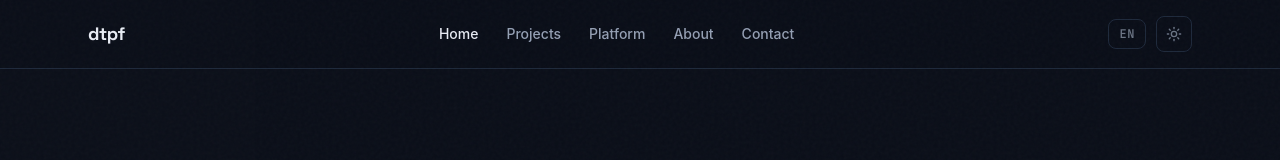
it: Header › language toggle switches label
The width and height of the screenshot is (1280, 160).
Click the button "EN" at (1127, 34), box [1108, 19, 1146, 49]
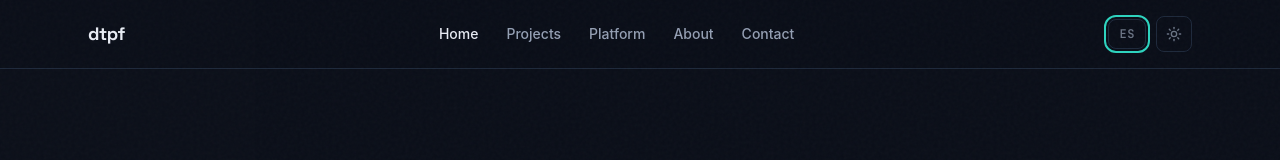
Expected: the button "EN" no longer shows "EN"
